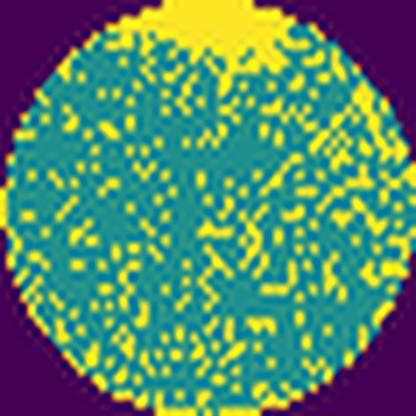Edge-Loc: (104, 0, 309, 71)
